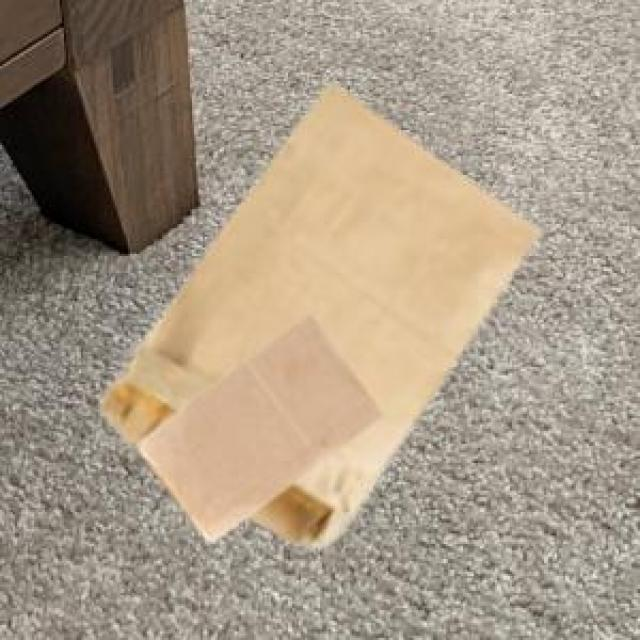Paper -Biodegradable-: (100, 84, 537, 552)
